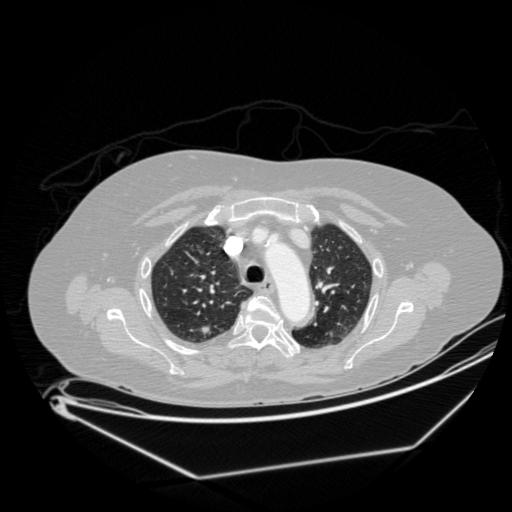nodule: (198, 322, 214, 338)
